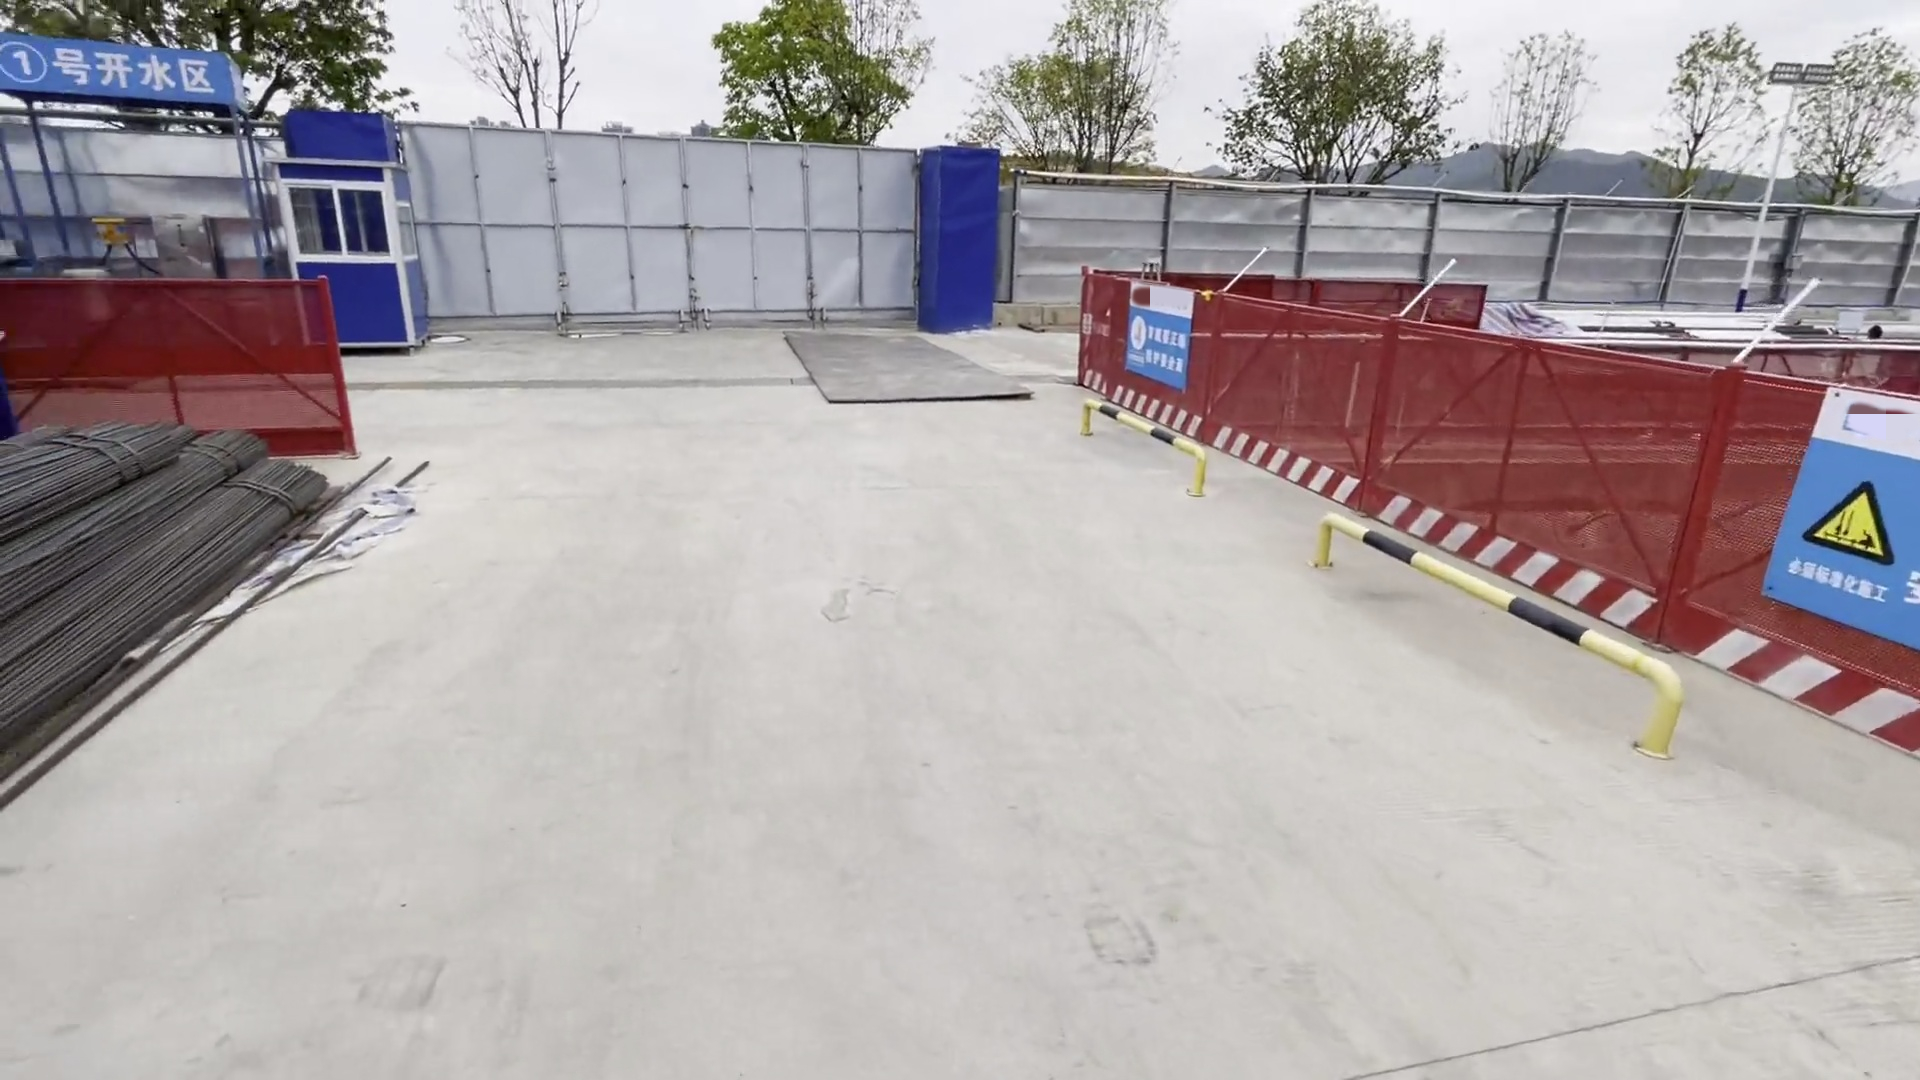ebox: (92, 214, 131, 245)
fence: (1054, 249, 1920, 804), (1, 276, 349, 439)
rebar: (1, 413, 334, 807)
slogan: (1782, 450, 1920, 625), (1127, 311, 1192, 390)
